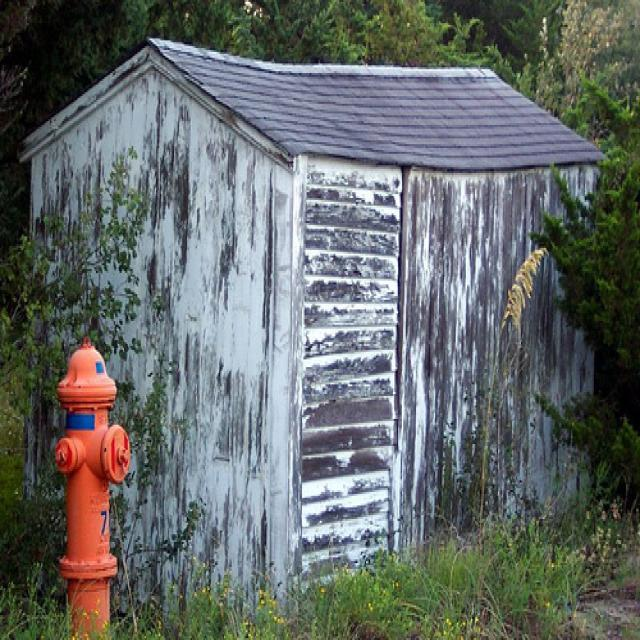fire_hydrant: (54, 334, 130, 632)
